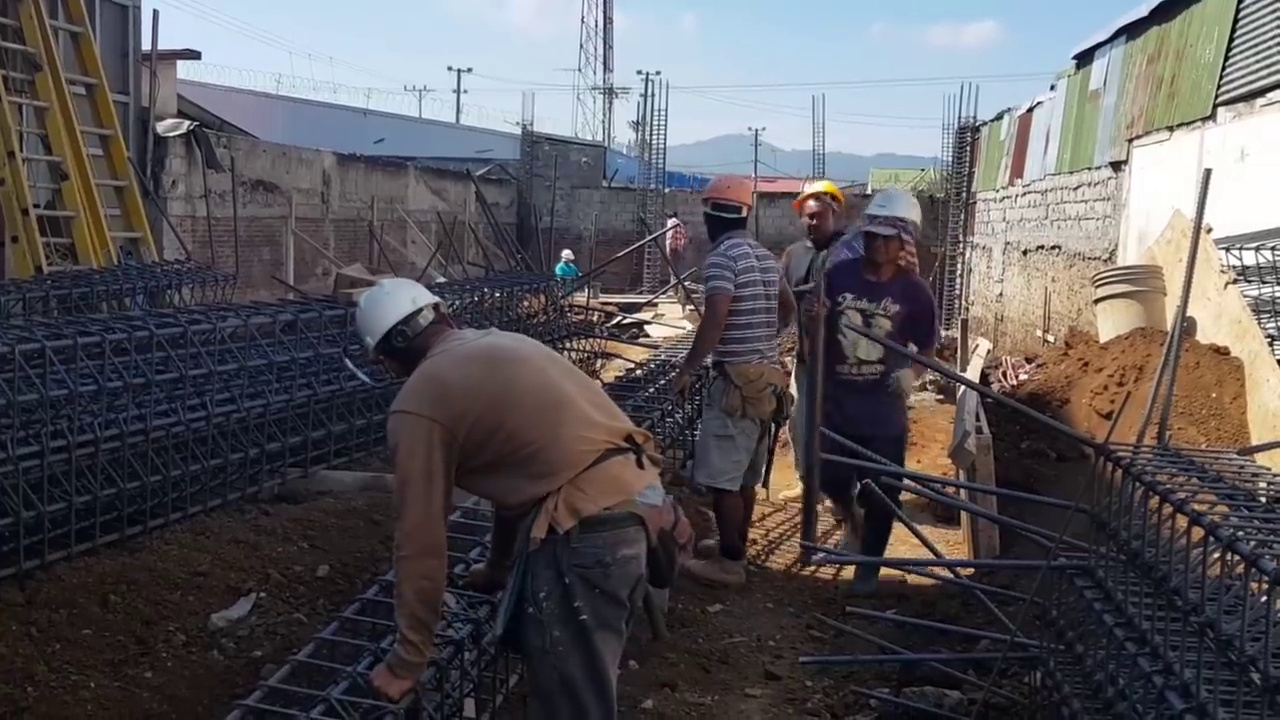helmet: (355, 277, 446, 362), (865, 185, 922, 232), (701, 173, 752, 212), (794, 179, 845, 208), (560, 249, 575, 260)
helmet-off: (664, 207, 677, 221)
helmet-on: (355, 274, 455, 360), (856, 184, 922, 281), (701, 172, 753, 244), (793, 178, 845, 244), (560, 249, 575, 263)
person: (354, 273, 680, 564), (673, 170, 797, 588), (817, 182, 932, 600), (777, 174, 854, 499), (665, 206, 689, 278), (555, 249, 581, 278)
